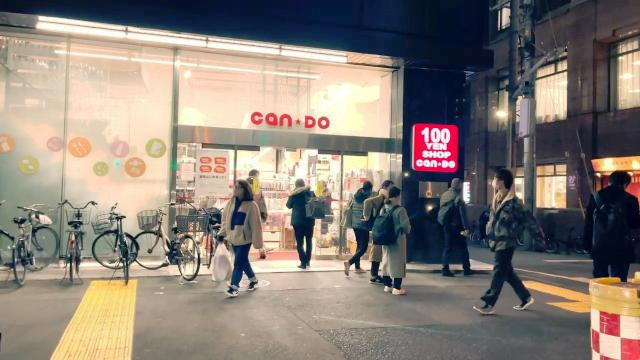berdiri: (582, 166, 640, 300), (368, 173, 410, 297), (436, 175, 474, 281)
berjalan: (474, 166, 538, 314), (218, 177, 266, 301)
